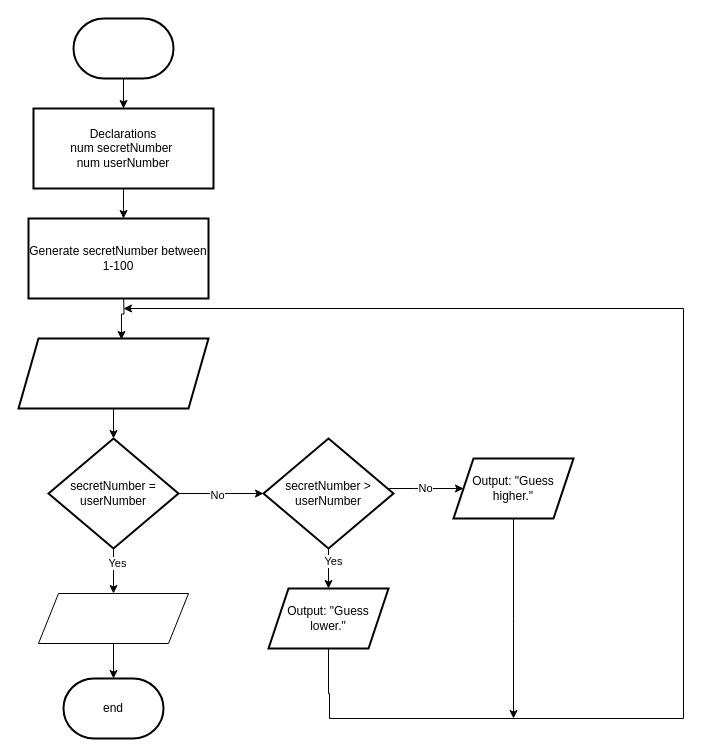
This 709x756 diagram has some shape labels left out. Each missing label, with the box of its shape:
Input userNumber: (17, 337, 209, 409)
Output "You guess correctly!": (38, 592, 188, 644)
Start: (72, 17, 174, 79)
